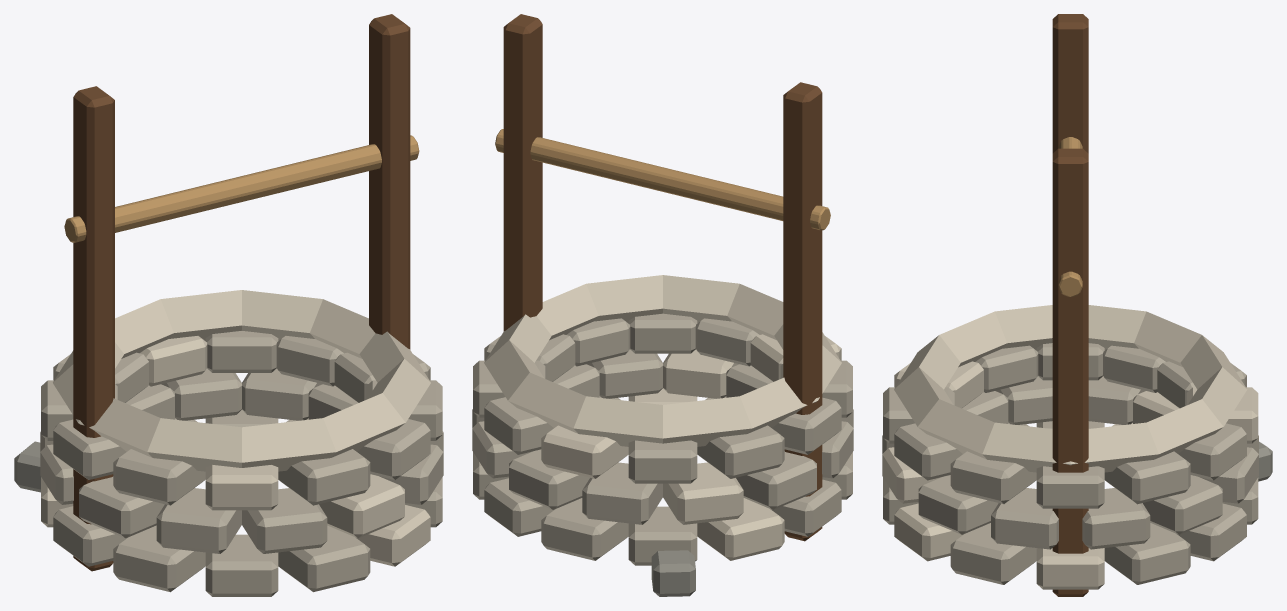
Rendered from runtime.glb.
3 views of the same model, side by side, from view 1: azimuth 30°, elevation 25°; view 2: azimuth 150°, elevation 25°; view 3: azimuth 270°, elevation 25° (orthographic). The views are drawn at different scales.
Parts seen in each view (by area): view 1: falkenwacht-stone-well-v02_nocol; view 2: falkenwacht-stone-well-v02_nocol; view 3: falkenwacht-stone-well-v02_nocol.
Boxes of the visible parts, box(x1,y1,x2,y2) form: falkenwacht-stone-well-v02_nocol: box(14, 14, 443, 596); falkenwacht-stone-well-v02_nocol: box(472, 14, 853, 596); falkenwacht-stone-well-v02_nocol: box(882, 14, 1272, 596).
Size of the model in its own units: 2.11 by 2.72 by 2.19.
